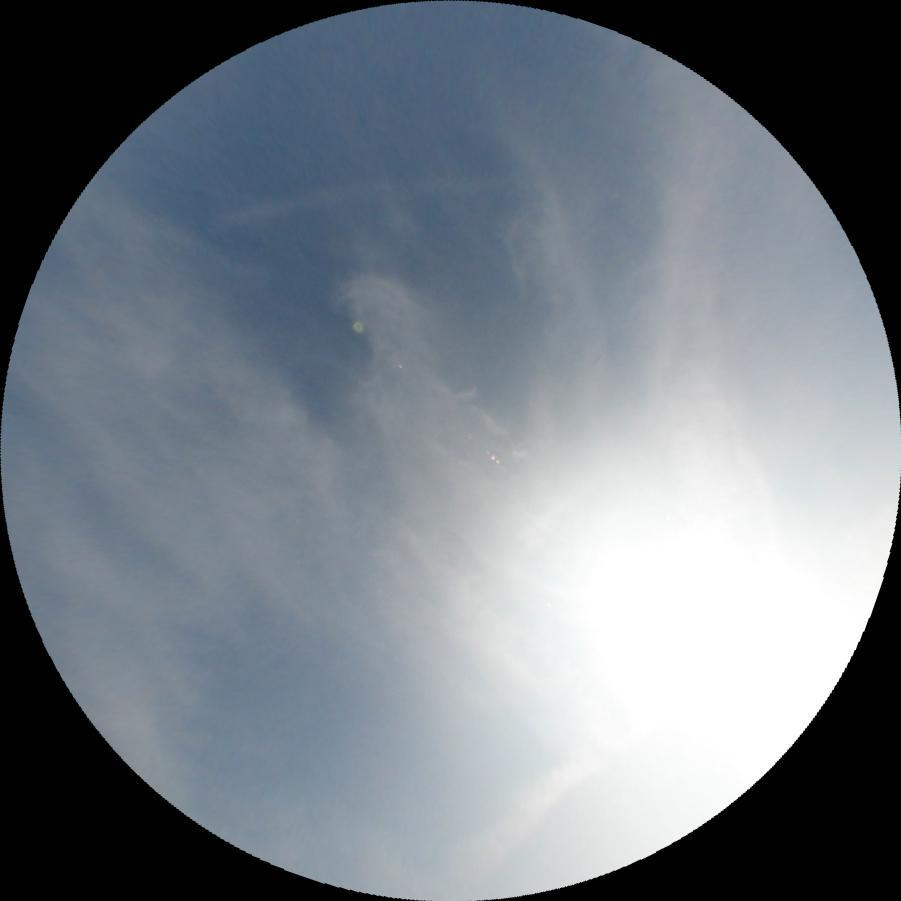contrail veryold: (216, 163, 517, 228)
sun: (549, 492, 804, 746)
